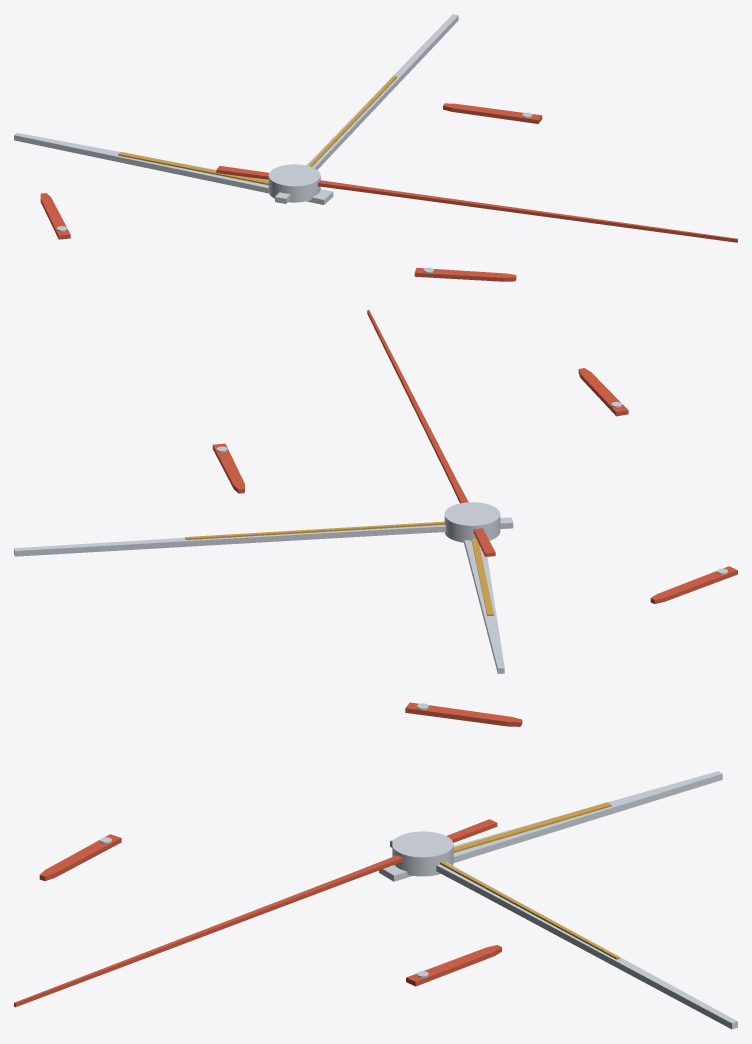
File: hands-chronograph-baton.glb
The picture shows the model from 3 angles, top to bottom: view 1: azimuth 30°, elevation 25°; view 2: azimuth 150°, elevation 25°; view 3: azimuth 270°, elevation 25°; orthographic projection. The views are drawn at different scales.
Visible parts, largest first — view 1: DD_ARCH_CHRONO_SECONDS, DD_ARCH_HAND_0, DD_ARCH_HAND_1, DD_ARCH_HAND_HUB, DD_ARCH_VK63_BATON_1, DD_ARCH_VK63_BATON_2, DD_ARCH_HAND_LUME_0, DD_ARCH_VK63_BATON_0, DD_ARCH_HAND_LUME_1; view 2: DD_ARCH_HAND_1, DD_ARCH_HAND_HUB, DD_ARCH_CHRONO_SECONDS, DD_ARCH_HAND_0, DD_ARCH_HAND_LUME_1, DD_ARCH_VK63_BATON_0, DD_ARCH_VK63_BATON_1, DD_ARCH_VK63_BATON_2, DD_ARCH_HAND_LUME_0; view 3: DD_ARCH_HAND_0, DD_ARCH_HAND_1, DD_ARCH_CHRONO_SECONDS, DD_ARCH_HAND_HUB, DD_ARCH_VK63_BATON_0, DD_ARCH_VK63_BATON_2, DD_ARCH_VK63_BATON_1, DD_ARCH_HAND_LUME_0, DD_ARCH_HAND_LUME_1.
Boxes of the visible parts, x1,y1,x2,y2 form: DD_ARCH_CHRONO_SECONDS: [216, 165, 737, 242]; DD_ARCH_HAND_0: [14, 133, 333, 204]; DD_ARCH_HAND_1: [275, 14, 458, 203]; DD_ARCH_HAND_HUB: [268, 164, 320, 202]; DD_ARCH_VK63_BATON_1: [414, 267, 516, 281]; DD_ARCH_VK63_BATON_2: [443, 103, 542, 123]; DD_ARCH_HAND_LUME_0: [118, 152, 268, 184]; DD_ARCH_VK63_BATON_0: [40, 193, 70, 239]; DD_ARCH_HAND_LUME_1: [308, 76, 396, 166]; DD_ARCH_HAND_1: [14, 517, 513, 556]; DD_ARCH_HAND_HUB: [444, 502, 500, 542]; DD_ARCH_CHRONO_SECONDS: [367, 310, 495, 556]; DD_ARCH_HAND_0: [464, 540, 504, 673]; DD_ARCH_HAND_LUME_1: [185, 521, 444, 539]; DD_ARCH_VK63_BATON_0: [650, 566, 737, 603]; DD_ARCH_VK63_BATON_1: [578, 368, 628, 416]; DD_ARCH_VK63_BATON_2: [212, 443, 244, 493]; DD_ARCH_HAND_LUME_0: [471, 538, 493, 615]; DD_ARCH_HAND_0: [379, 771, 722, 881]; DD_ARCH_HAND_1: [390, 839, 737, 1029]; DD_ARCH_CHRONO_SECONDS: [14, 819, 497, 1007]; DD_ARCH_HAND_HUB: [392, 831, 453, 876]; DD_ARCH_VK63_BATON_0: [405, 702, 522, 726]; DD_ARCH_VK63_BATON_2: [406, 945, 501, 986]; DD_ARCH_VK63_BATON_1: [39, 834, 121, 880]; DD_ARCH_HAND_LUME_0: [453, 802, 611, 852]; DD_ARCH_HAND_LUME_1: [440, 861, 619, 959].
Bounding box in the file's own units: 17.29 × 0.7 × 17.14.
